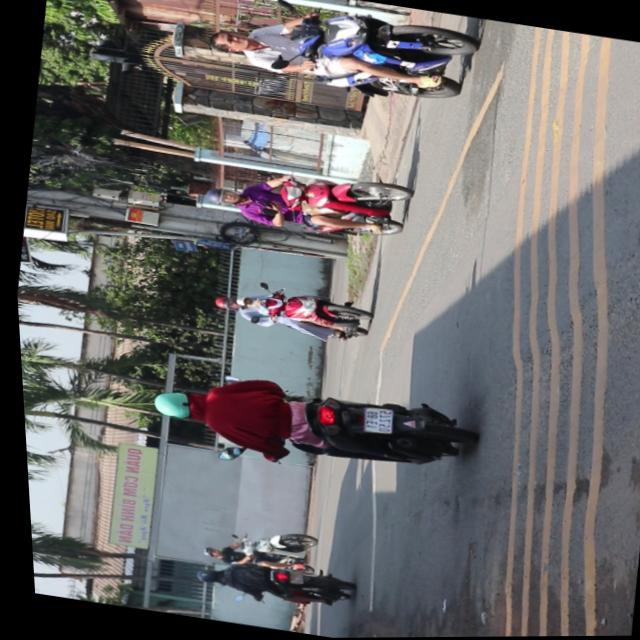helmet: (144, 384, 202, 423), (200, 184, 240, 208)
licenseplate: (137, 356, 474, 487), (201, 0, 484, 115), (195, 152, 415, 247)
motorcyclist: (209, 28, 254, 54)
nohelmet: (356, 406, 389, 434)
